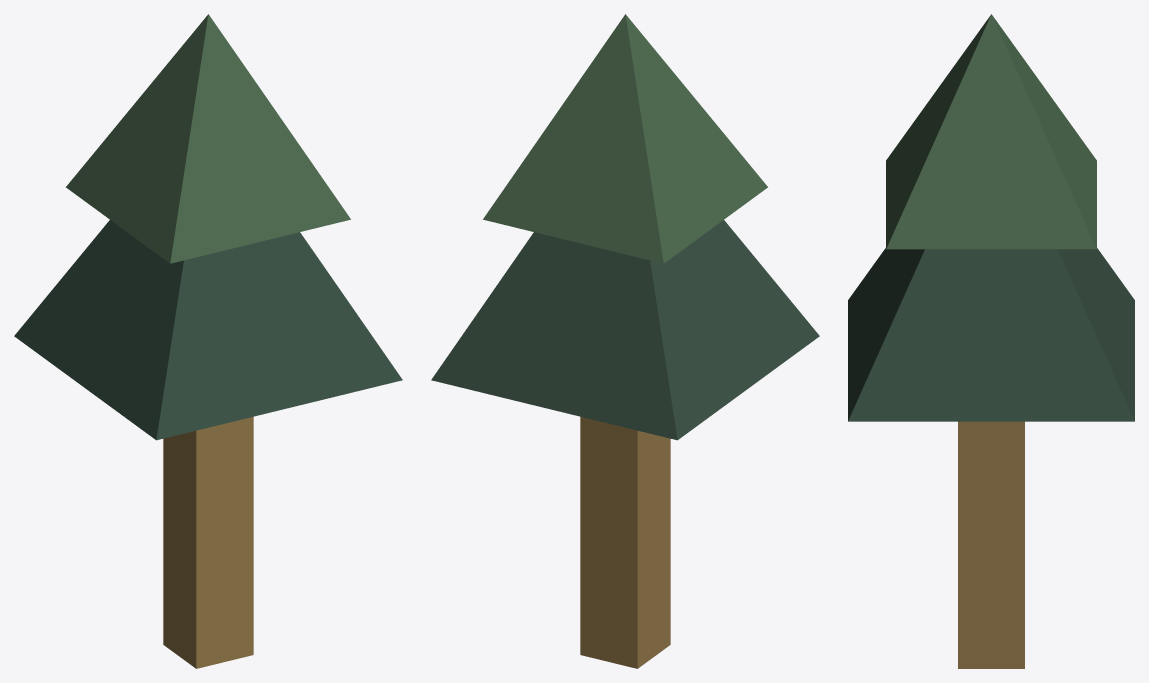
The model's file is tree.gltf.
The picture shows the model from 3 angles, left to right: view 1: azimuth 30°, elevation 25°; view 2: azimuth 150°, elevation 25°; view 3: azimuth 270°, elevation 25°; orthographic projection.
Visible parts, largest first — view 1: tree; view 2: tree; view 3: tree.
Part boxes in pixels (<box>): tree: <box>14,14,402,668</box>; tree: <box>431,14,819,668</box>; tree: <box>848,14,1134,668</box>.
Bounding box in the file's own units: 2.65 × 6.54 × 2.65.
